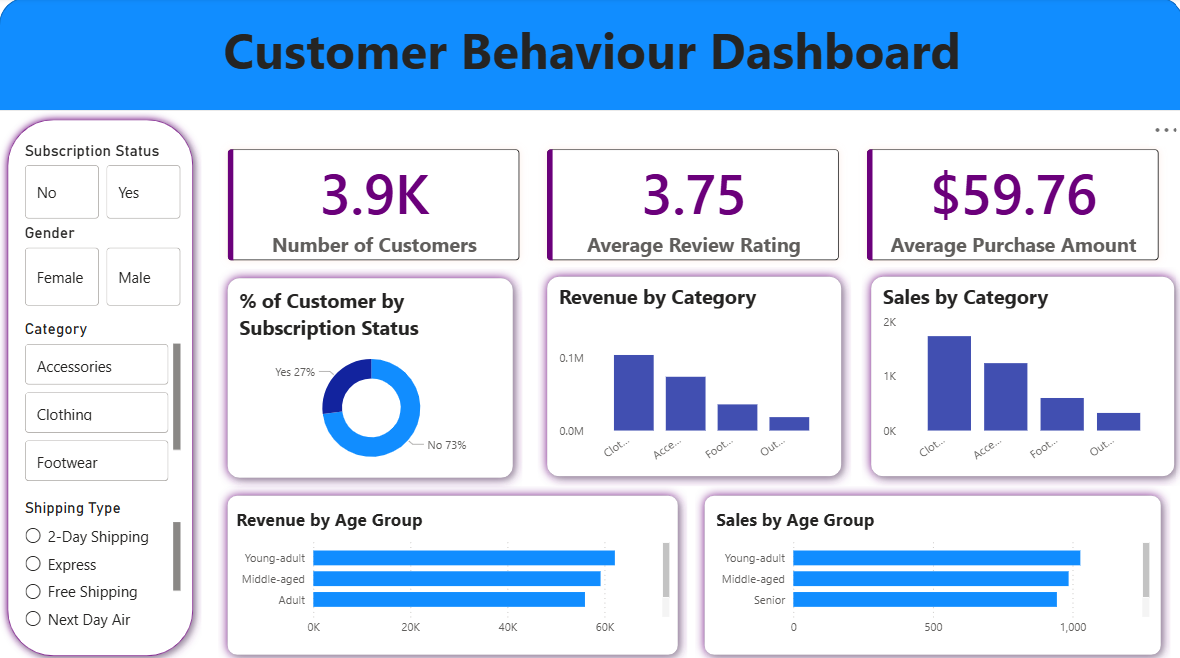

What the dashboard file says about the page in this screenshot:
{"tool":"powerbi","page":{"name":"Page 1","canvas":[1280,720],"ordinal":0},"visuals":[{"type":"cardVisual","fields":{"Data":["public customer.Number of Customers","public customer.Average Review Rating","public customer.Average Purchase Amount"]},"box":[218.6,136,1062.2,176.5],"z":0},{"type":"shape","box":[0,0,1280.8,123.1],"z":1000},{"type":"textbox","box":[72.9,14.6,1135.1,108.5],"z":2000},{"type":"shape","box":[236.4,293.1,328.7,236.4],"z":3000},{"type":"donutChart","title":"% of Customer by Subscription Status","fields":{"Category":["public customer.subscription_status"],"Y":["CountNonNull(public customer.customer_id)"]},"box":[254.2,312.5,294.7,204],"z":4000},{"type":"shape","box":[581.3,291.5,338.4,236.4],"z":5000},{"type":"shape","box":[931.1,291.5,348.1,236.4],"z":6000},{"type":"clusteredColumnChart","title":"Revenue by Category ","fields":{"Y":["Sum(public customer.purchase_amount)"],"Category":["public customer.category"]},"box":[599.1,307.7,304.4,204],"z":7000},{"type":"clusteredColumnChart","title":"Sales by Category ","fields":{"Y":["CountNonNull(public customer.customer_id)"],"Category":["public customer.category"]},"box":[948.9,307.7,314.1,204],"z":8000},{"type":"shape","box":[0,123.1,218.6,597.5],"z":9000},{"type":"advancedSlicerVisual","fields":{"Values":["public customer.subscription_status"]},"box":[22.7,155.4,178.1,89.1],"z":10000},{"type":"advancedSlicerVisual","fields":{"Values":["public customer.gender"]},"box":[22.7,244.5,178.1,93.9],"z":11000},{"type":"advancedSlicerVisual","fields":{"Values":["public customer.category"]},"box":[22.7,348.1,178.1,181.4],"z":12000},{"type":"listSlicer","fields":{"Values":["public customer.shipping_type"]},"box":[22.7,540.8,178.1,147.3],"z":13000},{"type":"shape","box":[236.4,527.9,506.8,192.7],"z":14000},{"type":"clusteredBarChart","title":"Revenue by Age Group","fields":{"Category":["public customer.age_group"],"Y":["Sum(public customer.purchase_amount)"]},"box":[251,550.5,477.7,147.3],"z":15000},{"type":"shape","box":[751.3,527.9,513.3,192.7],"z":16000},{"type":"clusteredBarChart","title":"Sales by Age Group","fields":{"Category":["public customer.age_group"],"Y":["Count(public customer.customer_id)"]},"box":[769.1,550.5,477.7,147.3],"z":17000}]}

Visuals, with their boxes in screenshot pixels (x1, y1, x2, y2), scaled from the page's 1280x720 canvas onto the 1180x658 screenshot:
cardVisual - public customer.Number of Customers x public customer.Average Review Rating: [x1=202, y1=124, x2=1179, y2=286]
shape: [x1=0, y1=0, x2=1179, y2=112]
textbox: [x1=67, y1=13, x2=1114, y2=112]
shape: [x1=218, y1=268, x2=521, y2=484]
"% of Customer by Subscription Status" donutChart: [x1=234, y1=286, x2=506, y2=472]
shape: [x1=536, y1=266, x2=848, y2=482]
shape: [x1=858, y1=266, x2=1179, y2=482]
"Revenue by Category " clusteredColumnChart: [x1=552, y1=281, x2=833, y2=468]
"Sales by Category " clusteredColumnChart: [x1=875, y1=281, x2=1164, y2=468]
shape: [x1=0, y1=112, x2=202, y2=657]
advancedSlicerVisual - public customer.subscription_status: [x1=21, y1=142, x2=185, y2=223]
advancedSlicerVisual - public customer.gender: [x1=21, y1=223, x2=185, y2=309]
advancedSlicerVisual - public customer.category: [x1=21, y1=318, x2=185, y2=484]
listSlicer - public customer.shipping_type: [x1=21, y1=494, x2=185, y2=629]
shape: [x1=218, y1=482, x2=685, y2=657]
"Revenue by Age Group" clusteredBarChart: [x1=231, y1=503, x2=672, y2=638]
shape: [x1=693, y1=482, x2=1166, y2=657]
"Sales by Age Group" clusteredBarChart: [x1=709, y1=503, x2=1149, y2=638]
